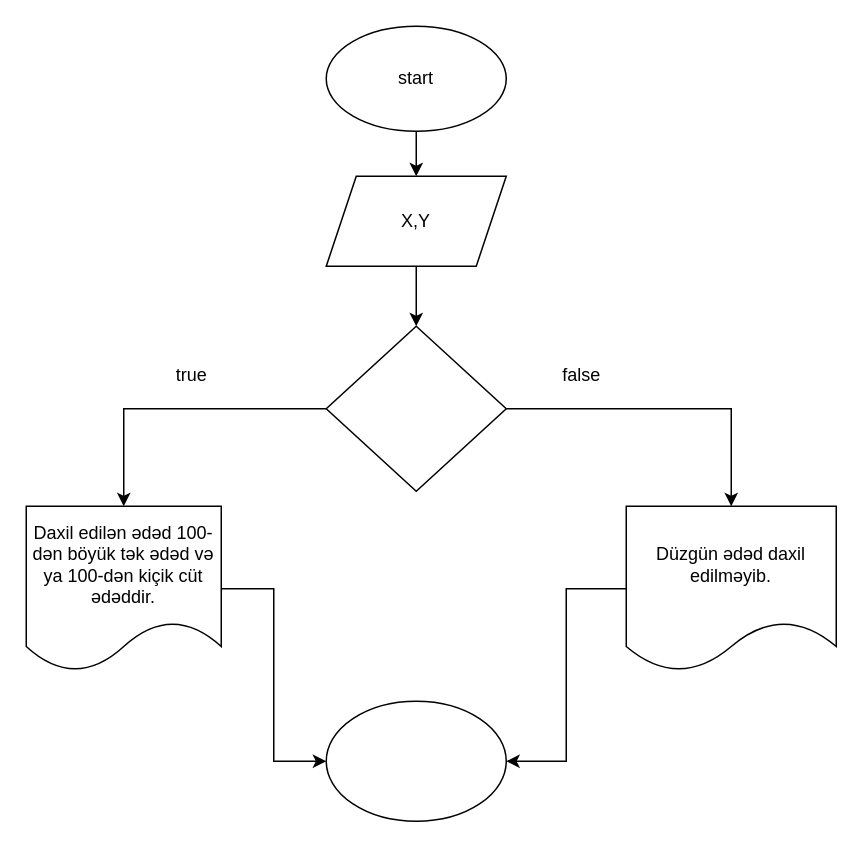
Some shapes in this 863 by 848 pixel diagram are drawn without their labels. The shapes that lost their labels are listed below. From the top down, each one's centre as x and y in pixels, then its label:
(415,408): X>100, X%2==1 Y<100, Y%2==0
(415,760): End
